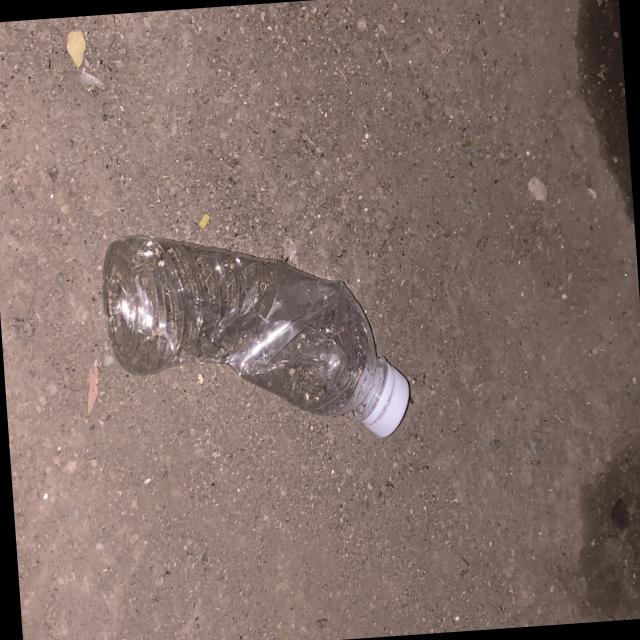Bottle: (101, 234, 409, 437)
